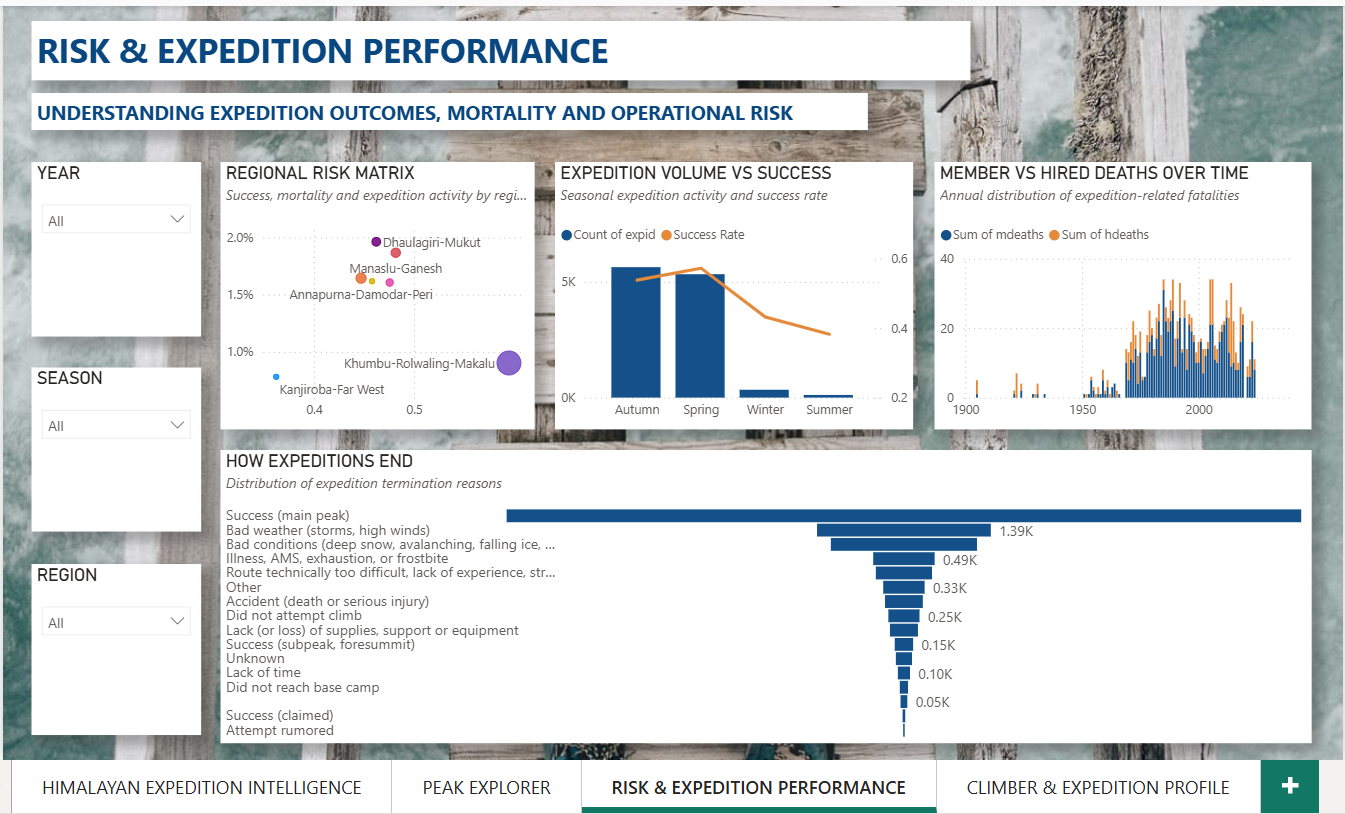

What the dashboard file says about the page in this screenshot:
{"tool":"powerbi","page":{"name":"RISK & EXPEDITION PERFORMANCE","canvas":[1280,720],"ordinal":2},"visuals":[{"type":"textbox","box":[26.7,15,896.7,56.7],"z":0},{"type":"textbox","box":[26.7,83.3,798.3,35],"z":1000},{"type":"slicer","title":"YEAR","fields":{"Values":["exped.year"]},"box":[26.7,148.3,161.7,166.7],"z":2000},{"type":"slicer","title":"SEASON","fields":{"Values":["exped.season"]},"box":[26.7,345,161.7,156.7],"z":3000},{"type":"slicer","title":"REGION","fields":{"Values":["peaks.region"]},"box":[26.7,533.3,161.7,163.3],"z":4000},{"type":"scatterChart","title":"REGIONAL RISK MATRIX","fields":{"Series":["peaks.region"],"Size":["Count(exped.expid)"],"X":["exped.Success Rate"],"Y":["exped.Death Rate"]},"box":[208.3,148.3,300,255],"z":5000},{"type":"funnel","title":"HOW EXPEDITIONS END","fields":{"Category":["exped.termreason"],"Y":["Count(exped.expid)"]},"box":[208.3,423.3,1041.7,280],"z":6000},{"type":"lineClusteredColumnComboChart","title":"EXPEDITION VOLUME VS SUCCESS","fields":{"Category":["exped.season"],"Y":["Count(exped.expid)"],"Y2":["exped.Success Rate"]},"box":[526.7,148.3,341.7,255],"z":7000},{"type":"columnChart","title":"MEMBER VS HIRED DEATHS OVER TIME","fields":{"Category":["exped.year"],"Y":["Sum(exped.mdeaths)","Sum(exped.hdeaths)"]},"box":[890,148.3,360,255],"z":8000}]}

Visuals, with their boxes in screenshot pixels (x1, y1, x2, y2):
textbox: [left=31, top=23, right=960, bottom=81]
textbox: [left=31, top=93, right=858, bottom=130]
"YEAR" slicer: [left=31, top=161, right=199, bottom=333]
"SEASON" slicer: [left=31, top=365, right=199, bottom=527]
"REGION" slicer: [left=31, top=560, right=199, bottom=729]
"REGIONAL RISK MATRIX" scatterChart: [left=219, top=161, right=530, bottom=425]
"HOW EXPEDITIONS END" funnel: [left=219, top=446, right=1299, bottom=736]
"EXPEDITION VOLUME VS SUCCESS" lineClusteredColumnComboChart: [left=549, top=161, right=903, bottom=425]
"MEMBER VS HIRED DEATHS OVER TIME" columnChart: [left=926, top=161, right=1299, bottom=425]
